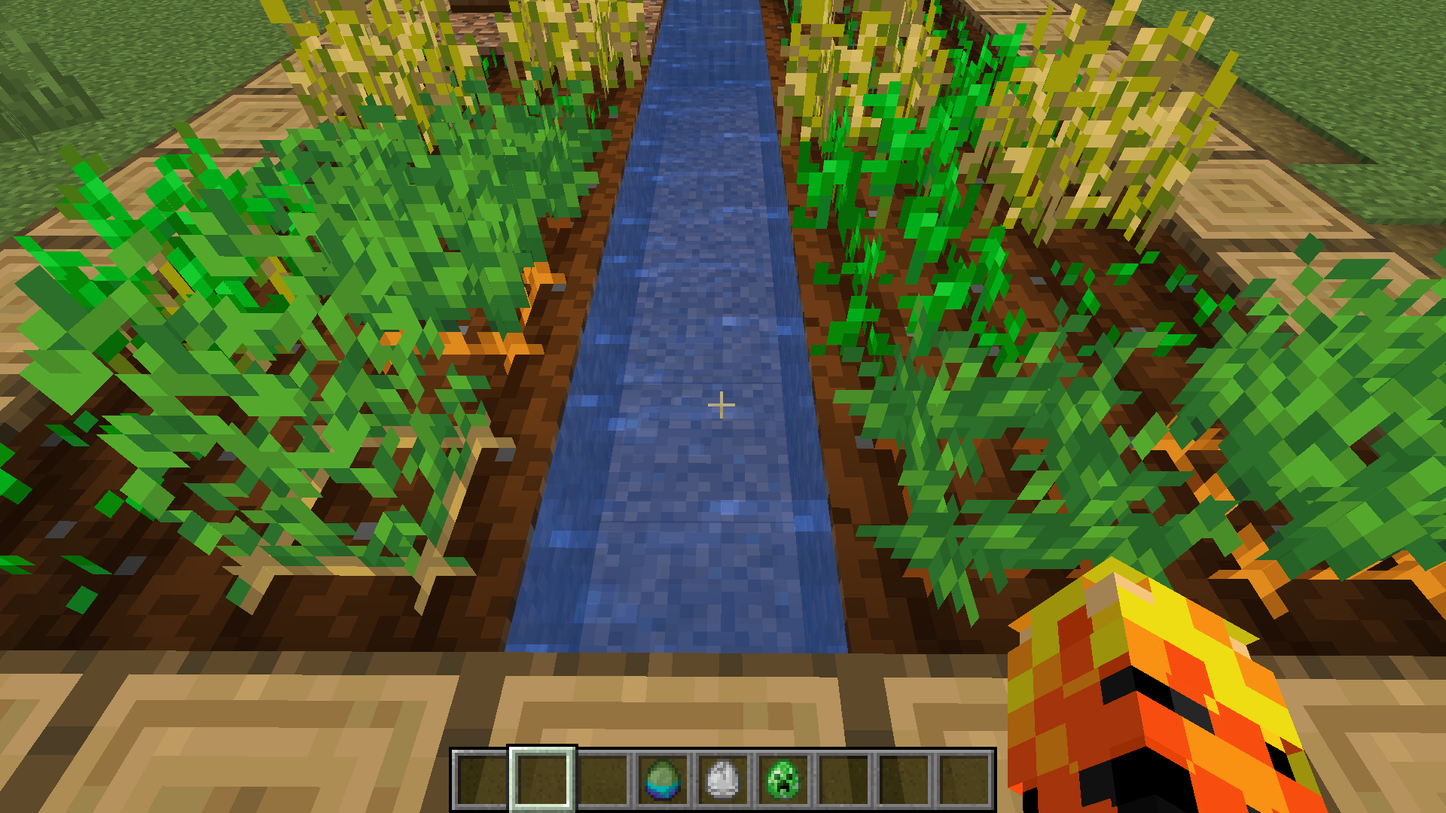water: (509, 0, 846, 650)
wood: (8, 665, 481, 808)
